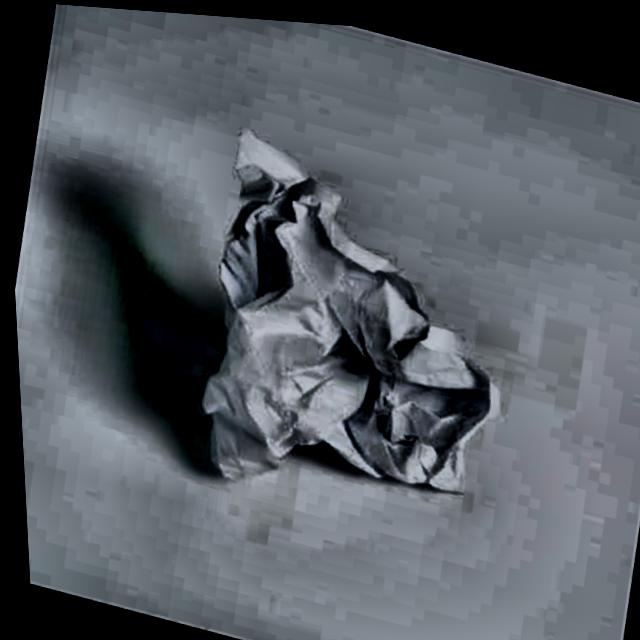Paper: (153, 106, 559, 559)
